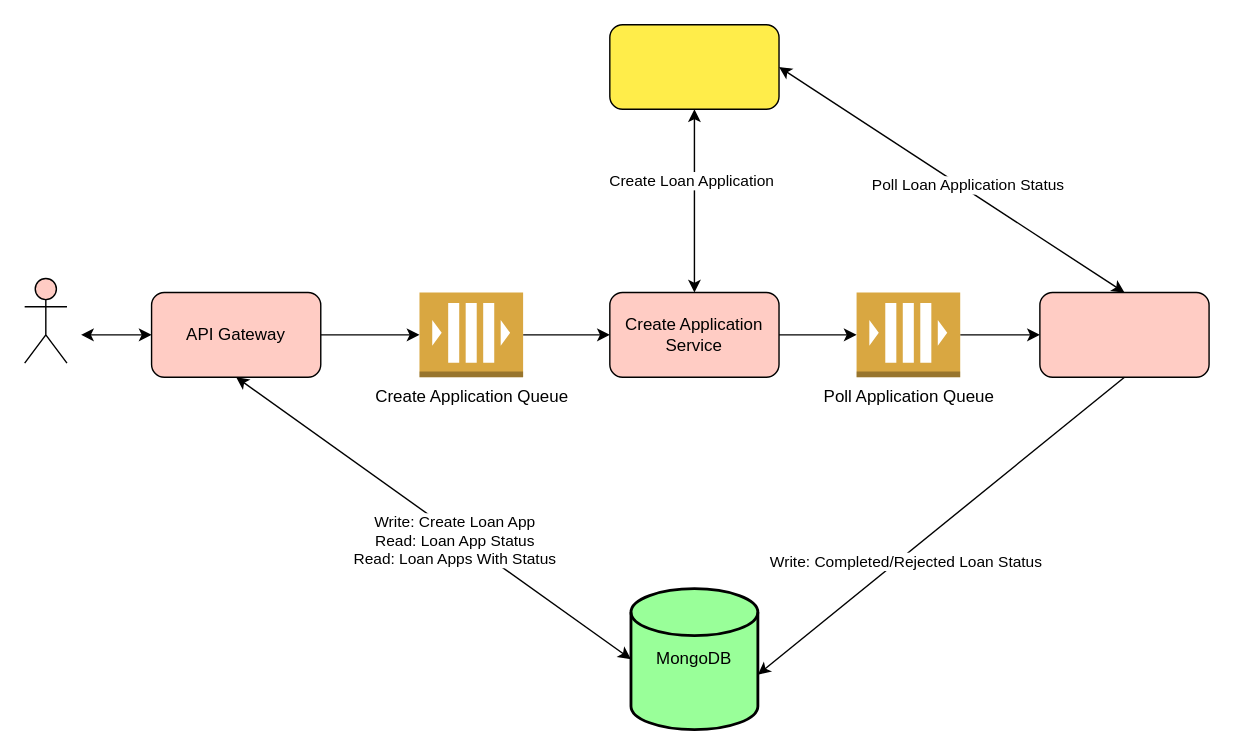
Image size: 1234x756. Some labels were removed from this diagram. Each missing label, with the box of its shape:
Bank API: (608, 23, 779, 109)
Poll Application Service: (1038, 291, 1209, 377)
User: (23, 277, 67, 363)
